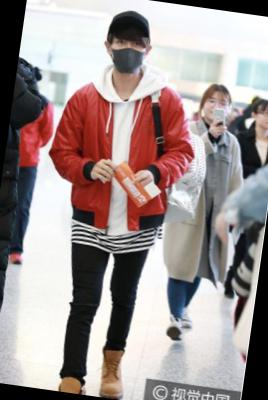with_mask: (109, 37, 148, 76)
without_mask: (205, 95, 229, 124), (256, 107, 268, 131)
